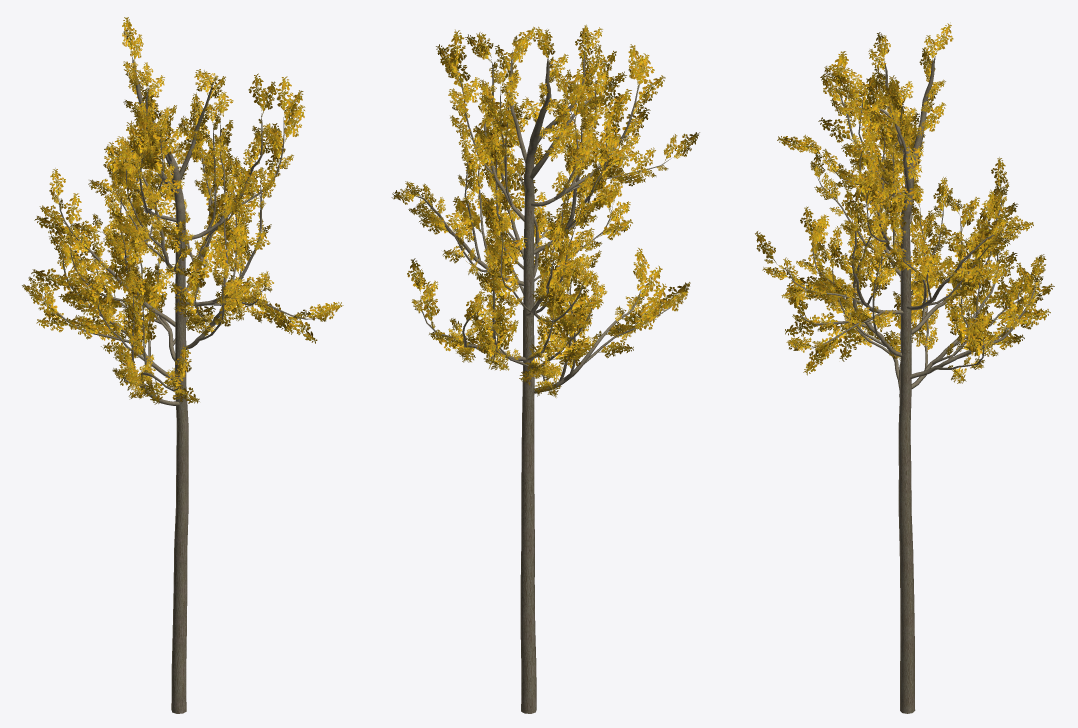
Rendered from aspen_medium_03.glb.
The picture shows the model from 3 angles, left to right: view 1: azimuth 30°, elevation 25°; view 2: azimuth 150°, elevation 25°; view 3: azimuth 270°, elevation 25°; orthographic projection. The views are drawn at different scales.
Visible parts, largest first — view 1: Tree; view 2: Tree; view 3: Tree.
Part boxes in pixels (left/top/right/bottom): Tree: left=22, top=17, right=343, bottom=713; Tree: left=391, top=24, right=699, bottom=713; Tree: left=755, top=22, right=1054, bottom=713.
Bounding box in the file's own units: 24.9 × 70.38 × 30.27.
2 materials, 2 textured.
